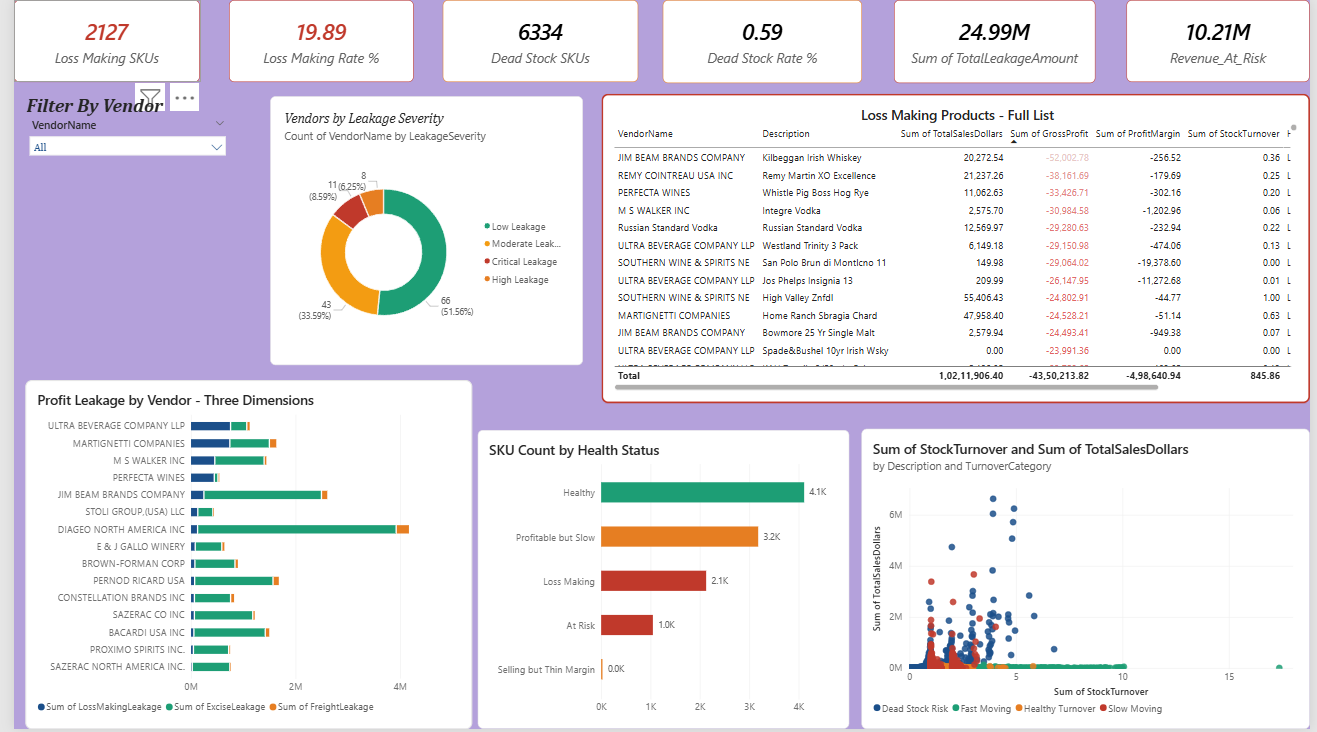

This screenshot's page, from the dashboard's own definition file:
{"tool":"powerbi","page":{"name":"Risk Dashboard","canvas":[1920,1080],"ordinal":2},"visuals":[{"type":"card","fields":{"Values":["_Commercial_Measures.Loss Making SKUs"]},"box":[0,0,275.1,121.2],"z":0},{"type":"card","fields":{"Values":["_Commercial_Measures.Dead Stock Rate %"]},"box":[962.7,0,295,123.1],"z":1000},{"type":"card","fields":{"Values":["_Commercial_Measures.Profit Leakage"]},"box":[1303,0,298.6,123.1],"z":2000},{"type":"card","fields":{"Values":["_Commercial_Measures.Loss Making Rate %"]},"box":[318.5,0,273.3,121.2],"z":3000},{"type":"card","fields":{"Values":["_Commercial_Measures.Revenue_At_Risk"]},"box":[1648.6,0,271.4,121.2],"z":4000},{"type":"card","fields":{"Values":["_Commercial_Measures.Dead Stock SKUs"]},"box":[635.2,0,289.5,121.2],"z":5000},{"type":"clusteredBarChart","title":"SKU Count by Health Status","fields":{"Category":["Portfolio_Health.HealthStatus"],"Y":["CountNonNull(Portfolio_Health.Description)"]},"box":[687,637,550,442.6],"z":6000},{"type":"barChart","title":"Profit Leakage by Vendor - Three Dimensions","fields":{"Category":["vw_ProfitLeakage.VendorName"],"Y":["Sum(vw_ProfitLeakage.LossMakingLeakage)","Sum(vw_ProfitLeakage.ExciseLeakage)","Sum(vw_ProfitLeakage.FreightLeakage)"]},"box":[17.3,562.7,662.2,517.2],"z":7000},{"type":"tableEx","title":"Loss Making Products - Full List","fields":{"Values":["Portfolio_Health.VendorName","Portfolio_Health.Description","Sum(Portfolio_Health.TotalSalesDollars)","Sum(Portfolio_Health.GrossProfit)","Sum(Portfolio_Health.ProfitMargin)","Sum(Portfolio_Health.StockTurnover)","Portfolio_Health.HealthStatus","_Revenue Measures.SKUs by Health Category"]},"box":[870,138.5,1049.6,458.8],"z":8000},{"type":"scatterChart","fields":{"Category":["Portfolio_Health.Description"],"Series":["Portfolio_Health.TurnoverCategory"],"X":["Avg(Portfolio_Health.StockTurnover)"],"Y":["Sum(Portfolio_Health.TotalSalesDollars)"]},"box":[1256.7,635,663.3,445],"z":9000},{"type":"slicer","title":"Filter By Vendor","fields":{"Values":["Vendor_Revenue.VendorName"]},"box":[18,140,300,202],"z":10000},{"type":"donutChart","title":"Vendors by Leakage Severity","fields":{"Category":["vw_ProfitLeakage.LeakageSeverity"],"Y":["CountNonNull(vw_ProfitLeakage.VendorName)"]},"box":[380,143,463.3,398.1],"z":11000}]}

Visuals, with their boxes in screenshot pixels (x1, y1, x2, y2), scaled from the page's 1920x1080 canvas onto the 1317x732 screenshot:
card - _Commercial_Measures.Loss Making SKUs: detection(0, 0, 189, 82)
card - _Commercial_Measures.Dead Stock Rate %: detection(660, 0, 863, 83)
card - _Commercial_Measures.Profit Leakage: detection(894, 0, 1099, 83)
card - _Commercial_Measures.Loss Making Rate %: detection(218, 0, 406, 82)
card - _Commercial_Measures.Revenue_At_Risk: detection(1131, 0, 1316, 82)
card - _Commercial_Measures.Dead Stock SKUs: detection(436, 0, 634, 82)
"SKU Count by Health Status" clusteredBarChart: detection(471, 432, 849, 731)
"Profit Leakage by Vendor - Three Dimensions" barChart: detection(12, 381, 466, 731)
"Loss Making Products - Full List" tableEx: detection(597, 94, 1316, 405)
scatterChart - Portfolio_Health.Description x Portfolio_Health.TurnoverCategory: detection(862, 430, 1316, 731)
"Filter By Vendor" slicer: detection(12, 95, 218, 232)
"Vendors by Leakage Severity" donutChart: detection(261, 97, 578, 367)
